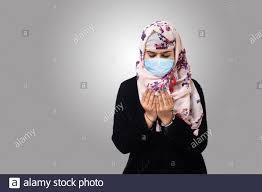Wearing Mask: (137, 17, 189, 80)
